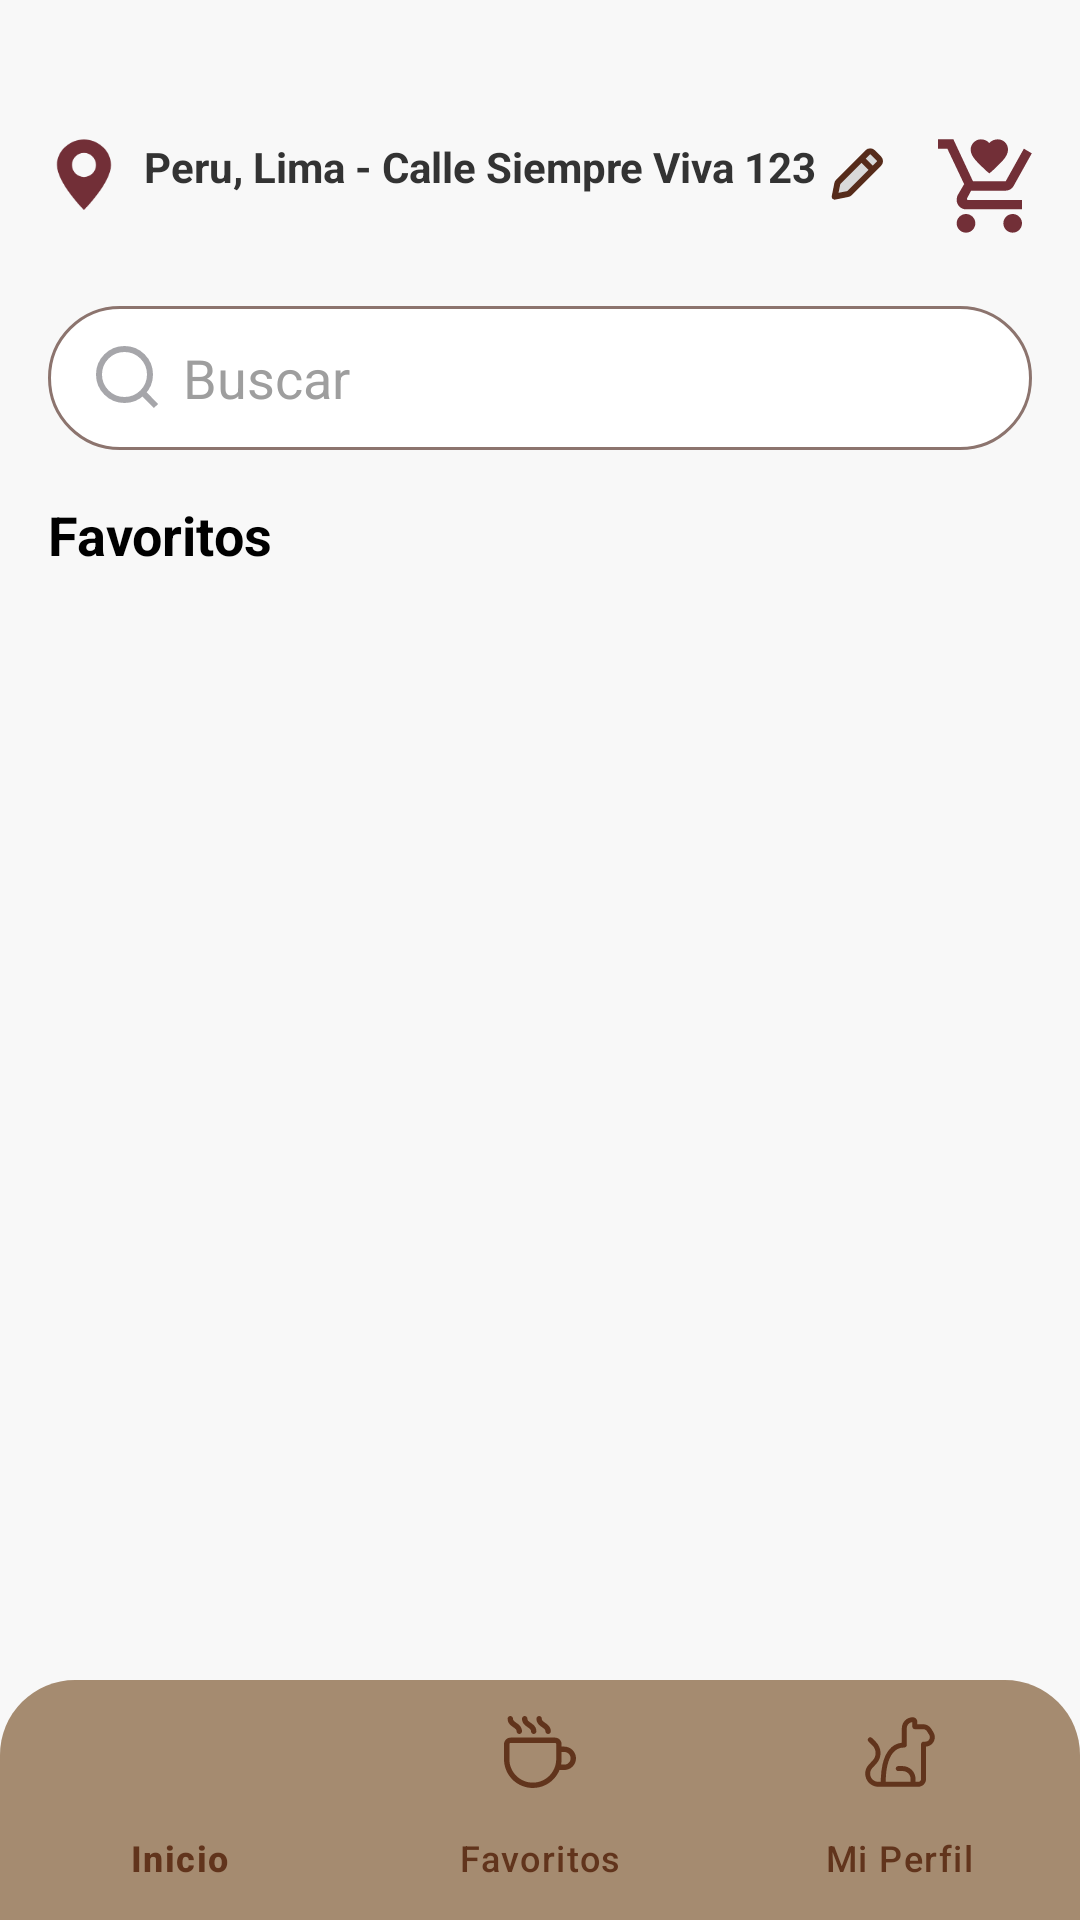

Icon click points for this 1080x1920 phone screenshot, format (x=x, y=y):
cart: (x=985, y=186)
location: (x=84, y=174)
pencil: (x=857, y=174)
